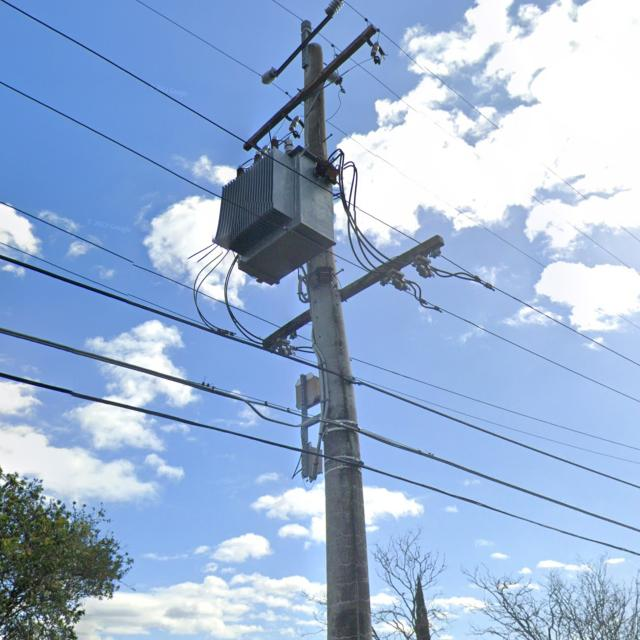HV-transmission: (242, 0, 384, 147)
LV link: (414, 255, 494, 292), (386, 268, 442, 313), (276, 337, 316, 357)
concrete-pole: (300, 41, 375, 640)
crossarm: (263, 232, 446, 348), (244, 22, 382, 151), (264, 0, 344, 83)
transformer: (212, 138, 332, 288)
